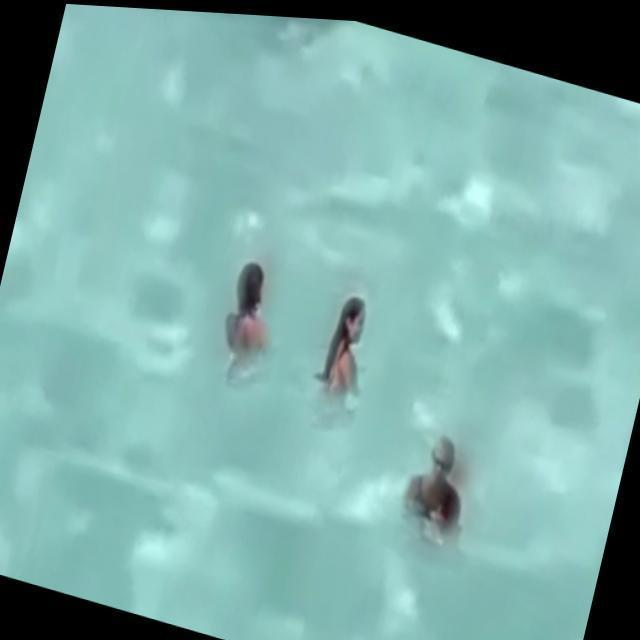swimming: (385, 418, 496, 566), (205, 236, 291, 390), (295, 273, 376, 434)
